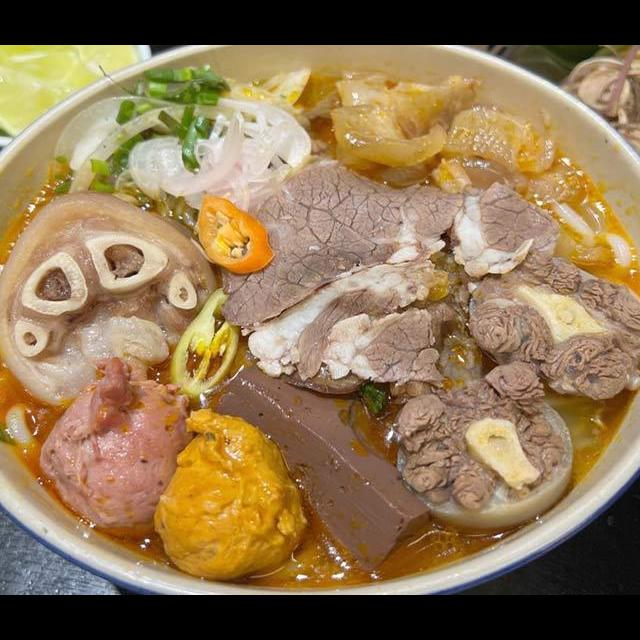bun: (548, 189, 640, 288)
bun bo: (0, 53, 640, 566)
thit bo: (215, 152, 477, 336), (269, 254, 463, 401), (439, 179, 566, 283)
